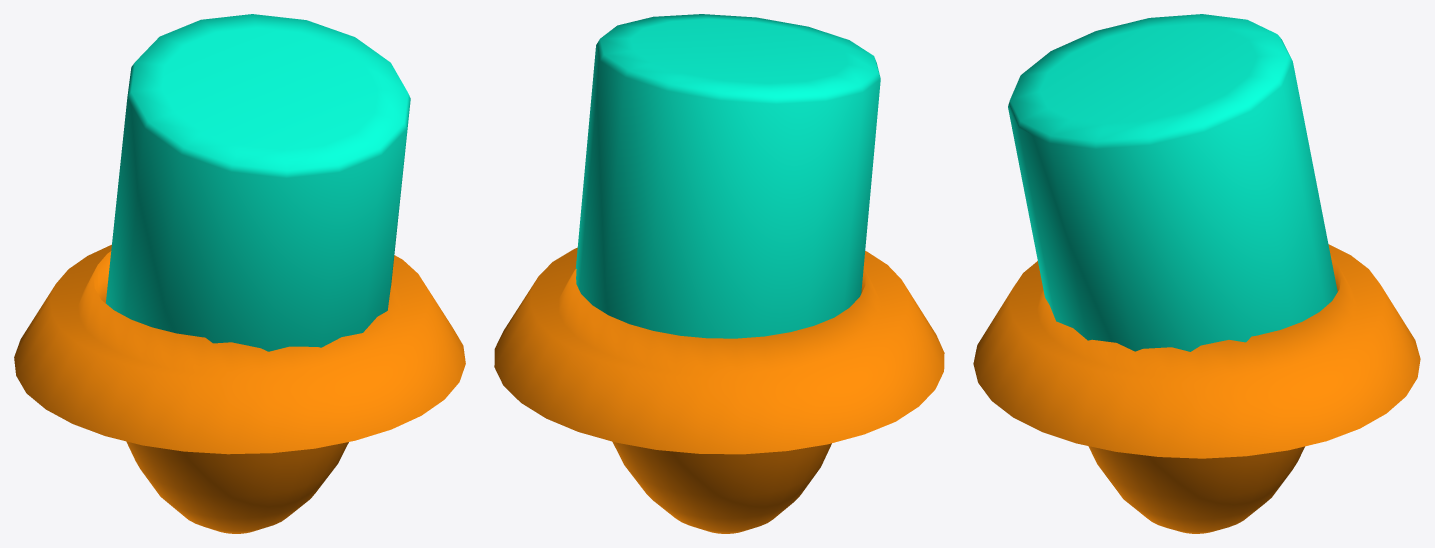
Rendered from Lago_Nubecita.fbx.
3 renders of one model, left to right at view 1: azimuth 30°, elevation 25°; view 2: azimuth 150°, elevation 25°; view 3: azimuth 270°, elevation 25°, orthographic.
Visible parts, largest first — view 1: Lago_Nubecita; view 2: Lago_Nubecita; view 3: Lago_Nubecita.
Part boxes in pixels (bbox=[...]): Lago_Nubecita: bbox=[14, 14, 465, 533]; Lago_Nubecita: bbox=[494, 14, 944, 533]; Lago_Nubecita: bbox=[973, 14, 1420, 533].
Bounding box in the file's own units: 126 × 145 × 123.
